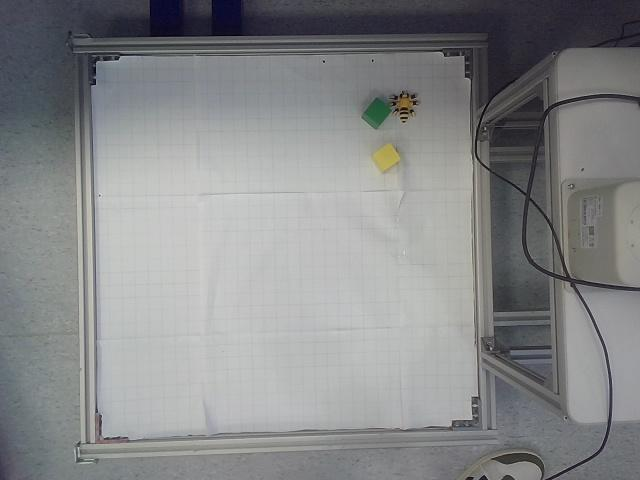frelon: (389, 91, 419, 123)
